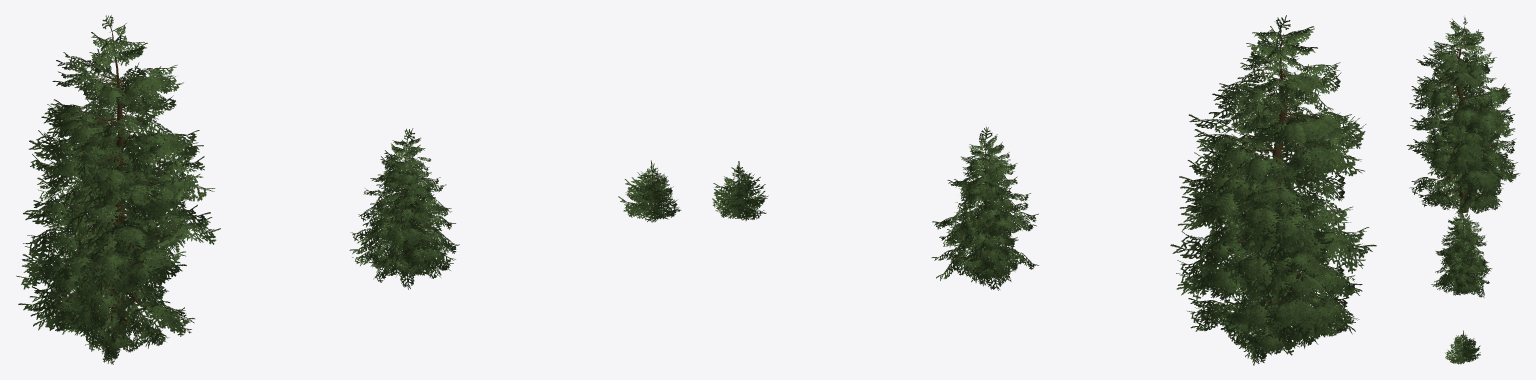
Rendered from trees.glb.
3 views of the same model, side by side, from view 1: azimuth 30°, elevation 25°; view 2: azimuth 150°, elevation 25°; view 3: azimuth 270°, elevation 25° (orthographic). The views are drawn at different scales.
Visible parts, largest first — view 1: Christmas tree_LOD0, Christmas tree_2_LOD0, Christmas tree_3_LOD0; view 2: Christmas tree_LOD0, Christmas tree_2_LOD0, Christmas tree_3_LOD0; view 3: Christmas tree_LOD0, Christmas tree_2_LOD0, Christmas tree_3_LOD0.
Boxes of the visible parts, left/top/right/bottom form: Christmas tree_LOD0: left=16, top=15, right=220, bottom=364; Christmas tree_2_LOD0: left=349, top=128, right=459, bottom=289; Christmas tree_3_LOD0: left=618, top=160, right=681, bottom=222; Christmas tree_LOD0: left=1170, top=15, right=1376, bottom=365; Christmas tree_2_LOD0: left=931, top=126, right=1038, bottom=290; Christmas tree_3_LOD0: left=712, top=161, right=768, bottom=220; Christmas tree_LOD0: left=1406, top=17, right=1520, bottom=215; Christmas tree_2_LOD0: left=1431, top=207, right=1492, bottom=297; Christmas tree_3_LOD0: left=1445, top=330, right=1480, bottom=364.
Size of what is drawn, in the model's own units: 18.76 by 9.3 by 5.04.
2 materials, 2 textured.
